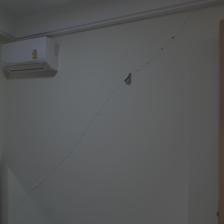High: (60, 29, 202, 220)
